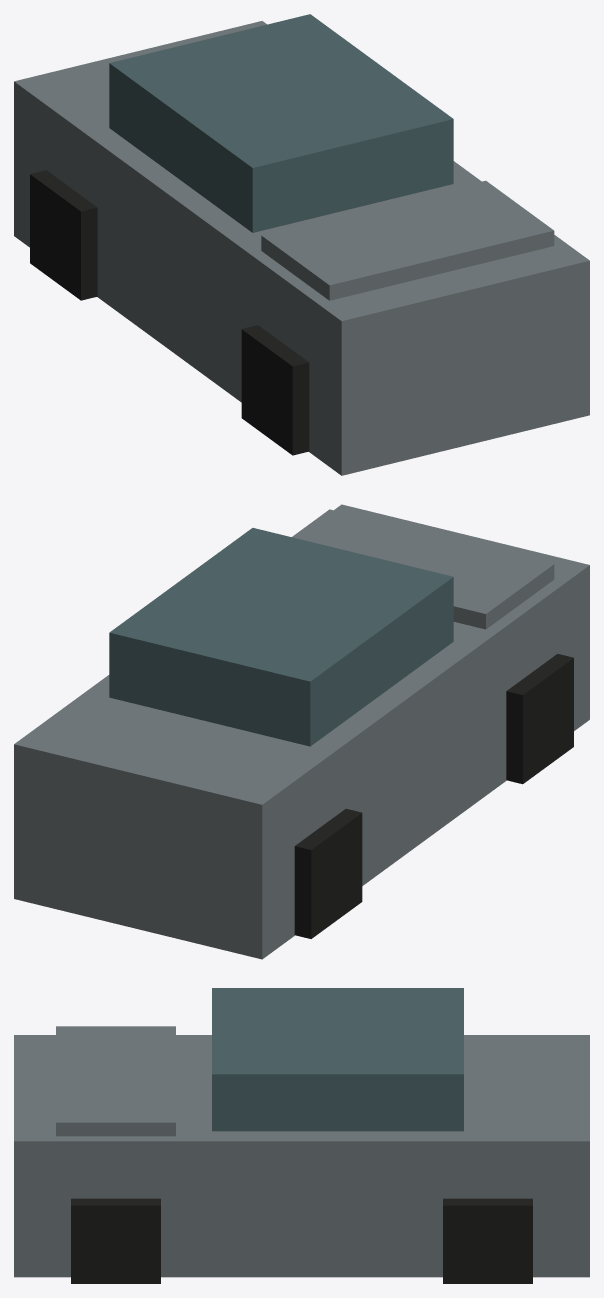
File: car_pickup_01.glb
3 views of the same model, one above another, from view 1: azimuth 30°, elevation 25°; view 2: azimuth 150°, elevation 25°; view 3: azimuth 270°, elevation 25° (orthographic). The views are drawn at different scales.
Size of the model in its own units: 2.38 by 1.78 by 4.8.
